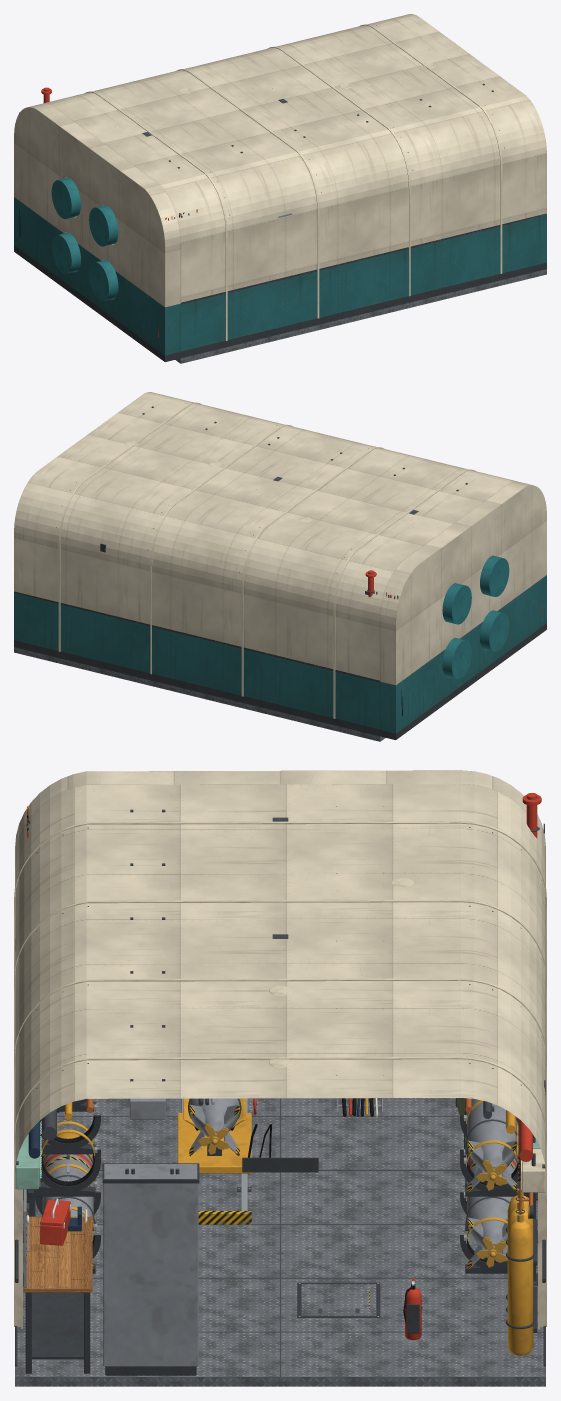
File: TorpedoRoom.glb
3 views of the same model, one above another, from view 1: azimuth 30°, elevation 25°; view 2: azimuth 150°, elevation 25°; view 3: azimuth 270°, elevation 25° (orthographic). The views are drawn at different scales.
Visible parts, largest first — view 1: TorpedoRoom_Shell_Body, Bulkhead_Bow_Body, TorpedoTubes_Body.001, TorpedoRoom_Shell_Structure, TorpedoRoom_Shell_Floor; view 2: TorpedoRoom_Shell_Body, Bulkhead_Bow_Body, TorpedoTubes_Body.001, TorpedoRoom_Shell_Structure, TorpedoRoom_Shell_Floor; view 3: TorpedoRoom_Shell_Body, TorpedoRoom_Shell_Floor, Rack_90_4_Body.001, TorpedoRoom_Shell_Structure, Workbench_Body.001, Bulkhead_Bow_Body, AirTanks_Body.001, TorpedoRack_Body.002, Torpedo_Body.003, TorpedoRack_Body.001, LoadingCradle_Carriage.001, FloorHatch_Lid.001 (+9 smaller).
Boxes of the visible parts, x1,y1,x2,y2 form: TorpedoRoom_Shell_Body: [43, 14, 546, 358]; Bulkhead_Bow_Body: [14, 103, 180, 361]; TorpedoTubes_Body.001: [51, 177, 118, 301]; TorpedoRoom_Shell_Structure: [85, 24, 504, 340]; TorpedoRoom_Shell_Floor: [175, 269, 546, 363]; TorpedoRoom_Shell_Body: [14, 392, 517, 736]; Bulkhead_Bow_Body: [380, 481, 546, 739]; TorpedoTubes_Body.001: [442, 555, 509, 679]; TorpedoRoom_Shell_Structure: [56, 402, 475, 718]; TorpedoRoom_Shell_Floor: [14, 647, 385, 741]; TorpedoRoom_Shell_Body: [15, 784, 545, 1366]; TorpedoRoom_Shell_Floor: [15, 1098, 545, 1386]; Rack_90_4_Body.001: [102, 1163, 199, 1375]; TorpedoRoom_Shell_Structure: [14, 806, 546, 1328]; Workbench_Body.001: [23, 1189, 92, 1373]; Bulkhead_Bow_Body: [15, 770, 545, 859]; AirTanks_Body.001: [506, 1175, 537, 1355]; TorpedoRack_Body.002: [23, 1099, 100, 1285]; Torpedo_Body.003: [466, 1098, 517, 1192]; TorpedoRack_Body.001: [460, 1100, 537, 1285]; LoadingCradle_Carriage.001: [177, 1113, 251, 1173]; FloorHatch_Lid.001: [301, 1284, 375, 1315].
Bounding box in the file's own units: 7.48 × 3.01 × 5.02.
Materials: 43 (28 with a texture image).
